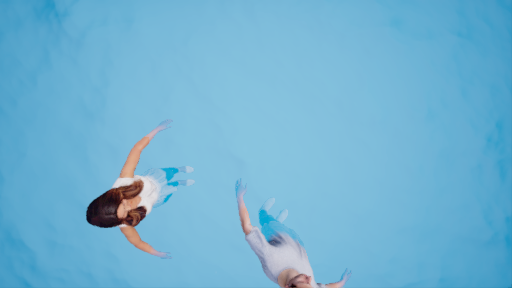person: (83, 117, 207, 249), (225, 182, 360, 288)
